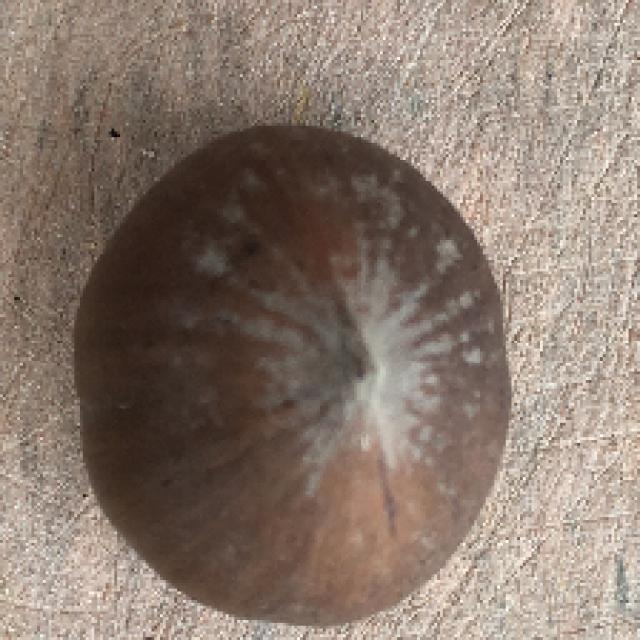damagedHazelnut: (68, 125, 516, 626)
